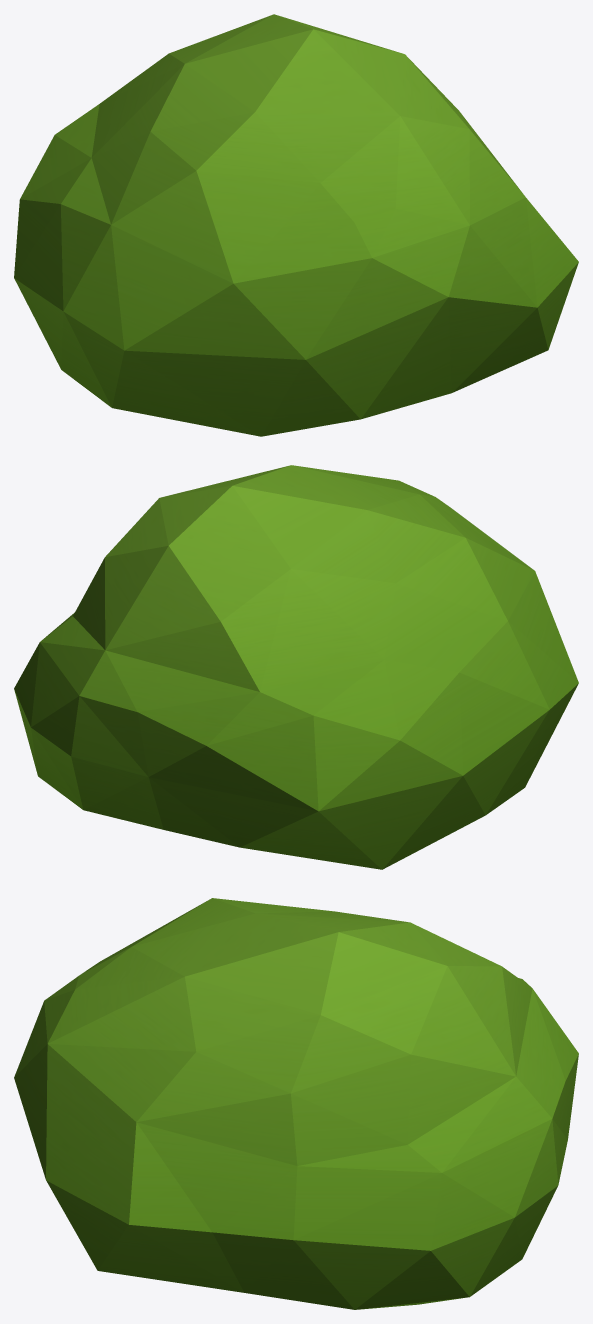
Rendered from Bush_01.fbx.
The picture shows the model from 3 angles, top to bottom: view 1: azimuth 30°, elevation 25°; view 2: azimuth 150°, elevation 25°; view 3: azimuth 270°, elevation 25°; orthographic projection. The views are drawn at different scales.
Parts seen in each view (by area): view 1: Bush_01; view 2: Bush_01; view 3: Bush_01.
Boxes of the visible parts, left/top/right/bottom form: Bush_01: left=14, top=14, right=578, bottom=436; Bush_01: left=14, top=465, right=578, bottom=869; Bush_01: left=14, top=898, right=578, bottom=1309.
Size of the model in its own units: 161 by 103 by 162.
